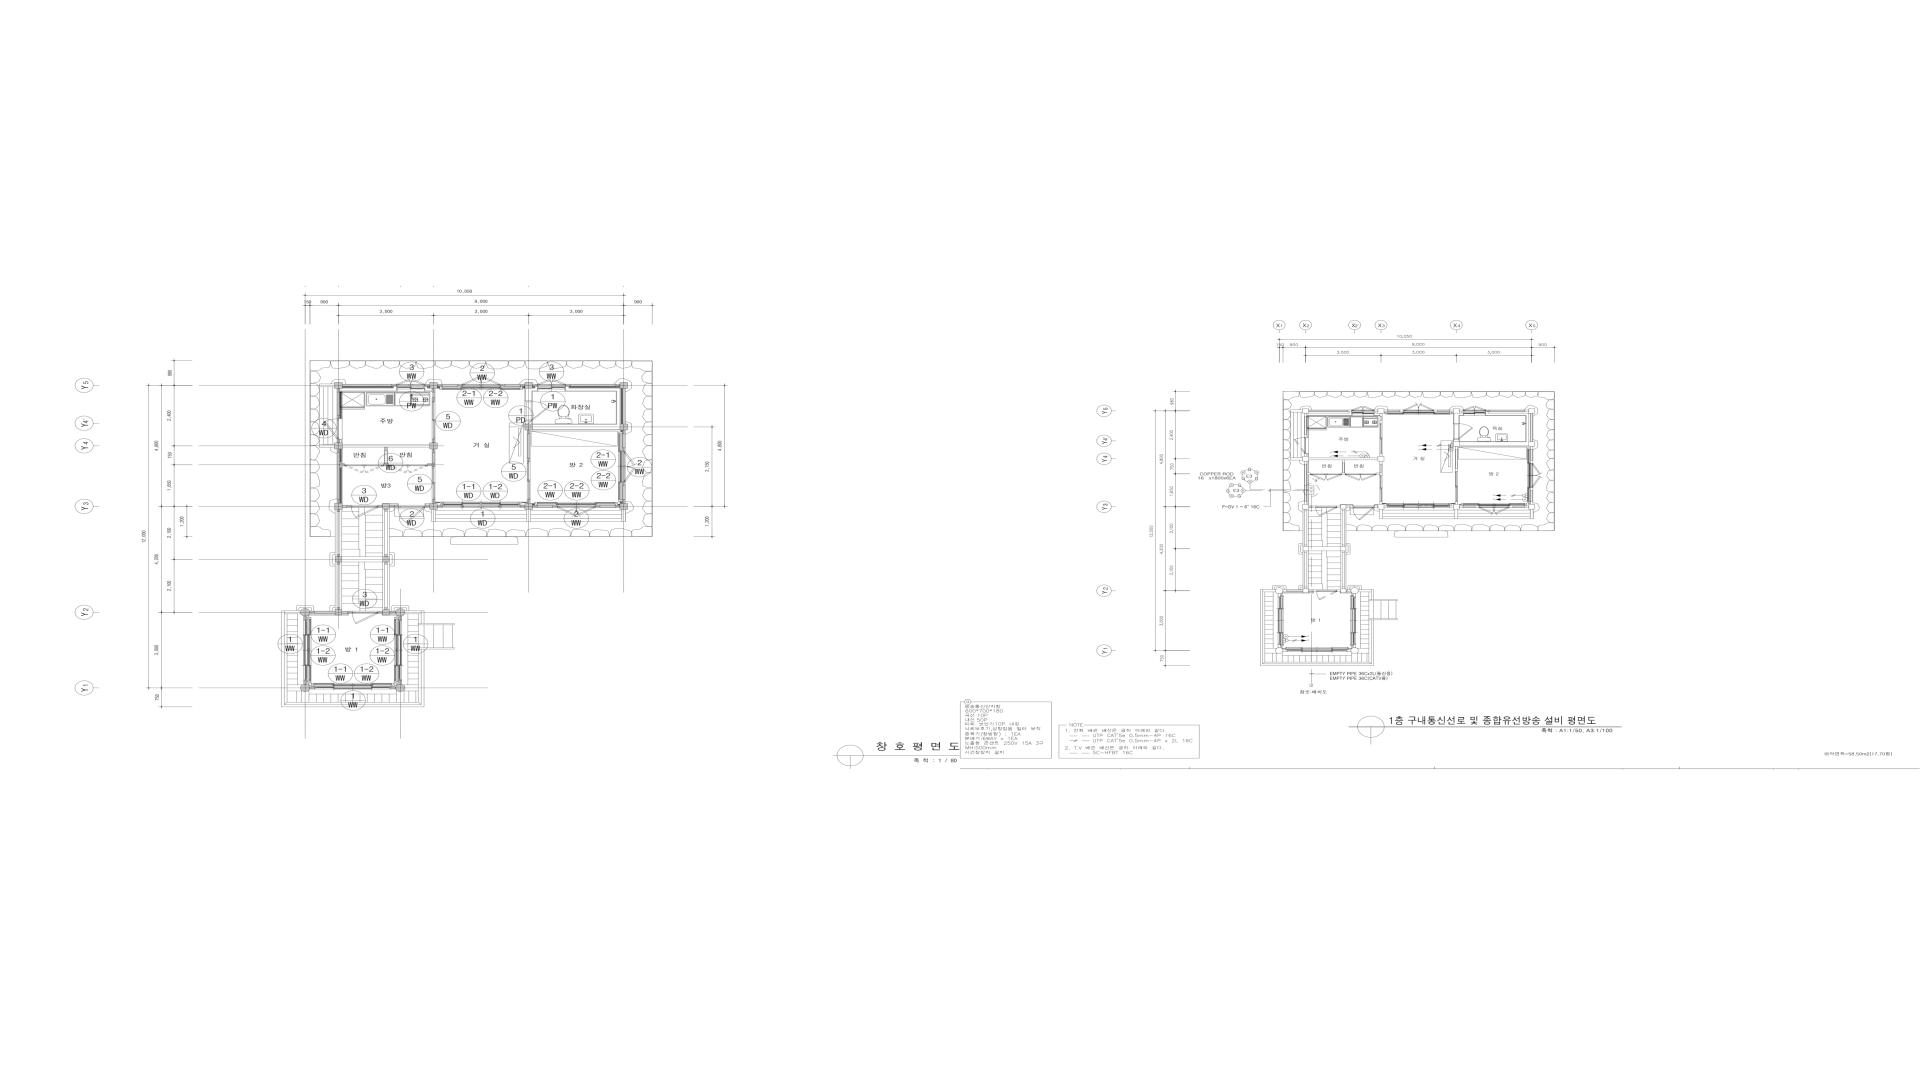door: (398, 505, 425, 523), (525, 401, 549, 421), (324, 419, 342, 439), (351, 505, 378, 518), (1386, 503, 1452, 508), (353, 611, 378, 624), (1453, 423, 1473, 439), (1294, 437, 1309, 454), (1345, 474, 1376, 481), (1311, 474, 1341, 481), (1316, 506, 1337, 516), (1317, 590, 1337, 600), (527, 462, 530, 500), (432, 401, 435, 439), (432, 467, 435, 500), (1455, 471, 1458, 502), (1380, 423, 1382, 454), (1380, 475, 1382, 502)
wall: (533, 425, 620, 430), (1460, 441, 1529, 447), (335, 562, 342, 610), (383, 509, 390, 557), (335, 510, 342, 557), (383, 562, 389, 610), (340, 386, 396, 391), (1302, 509, 1309, 547), (1303, 551, 1309, 589), (566, 387, 621, 391), (1341, 551, 1346, 589), (1341, 509, 1346, 547), (342, 445, 430, 447), (1486, 412, 1529, 416), (337, 453, 340, 500), (1526, 413, 1531, 441), (1309, 458, 1378, 460), (617, 391, 621, 425), (571, 384, 615, 387), (1304, 461, 1307, 504), (1307, 413, 1349, 416), (1309, 410, 1351, 412), (1490, 410, 1529, 412), (1304, 414, 1307, 438), (1455, 447, 1458, 471), (623, 388, 625, 424), (525, 391, 532, 401), (300, 609, 310, 616), (395, 609, 405, 616), (337, 392, 340, 415), (396, 685, 405, 692), (301, 685, 310, 692), (315, 611, 335, 614), (430, 503, 438, 510), (1531, 413, 1533, 441), (430, 382, 438, 389), (620, 382, 628, 389), (620, 503, 628, 510), (525, 503, 533, 510), (342, 385, 392, 386), (335, 503, 342, 510), (1453, 416, 1460, 423), (525, 387, 537, 391), (341, 408, 365, 410), (391, 681, 399, 687), (307, 681, 315, 687), (1351, 588, 1359, 594), (1351, 648, 1359, 654), (1275, 648, 1283, 654), (1275, 588, 1283, 594), (525, 382, 533, 388), (620, 424, 628, 430), (537, 505, 553, 508), (528, 434, 530, 458), (600, 505, 615, 508), (335, 443, 342, 449), (335, 382, 342, 388), (1302, 408, 1309, 414), (1453, 441, 1460, 447), (1453, 408, 1460, 414), (525, 424, 532, 430), (430, 443, 437, 449), (1283, 590, 1303, 592), (1509, 506, 1529, 508), (1384, 410, 1404, 412), (385, 451, 388, 464), (1342, 460, 1345, 473), (1460, 506, 1479, 508), (1434, 410, 1453, 412), (1378, 408, 1384, 414), (1378, 504, 1384, 510), (1529, 441, 1535, 447), (623, 430, 625, 448), (335, 557, 342, 562), (383, 504, 390, 509), (335, 610, 342, 615), (425, 386, 432, 391), (1302, 504, 1309, 509), (1453, 504, 1460, 509), (1531, 447, 1533, 463), (442, 384, 458, 386), (383, 557, 389, 562), (383, 610, 389, 615), (1303, 456, 1309, 461), (1378, 456, 1384, 461), (1529, 504, 1535, 509), (505, 384, 520, 386), (432, 453, 435, 463), (1531, 488, 1533, 502), (1380, 461, 1382, 475), (623, 486, 625, 500), (1453, 413, 1462, 416), (309, 614, 335, 615), (390, 505, 398, 508), (342, 611, 348, 615), (1374, 412, 1380, 416), (1303, 589, 1309, 593), (1340, 505, 1346, 509), (1529, 409, 1535, 413), (435, 502, 442, 505), (520, 502, 527, 505), (525, 421, 532, 424), (1341, 589, 1346, 593), (1303, 547, 1308, 551), (1341, 547, 1346, 551), (309, 611, 315, 614), (1308, 590, 1317, 592), (425, 505, 430, 508), (342, 505, 347, 508), (378, 505, 383, 508), (348, 611, 353, 614), (378, 611, 383, 614), (391, 611, 396, 614), (566, 384, 571, 387), (615, 384, 620, 387), (615, 505, 620, 508), (595, 505, 600, 508), (520, 505, 525, 508), (432, 392, 435, 397), (1309, 506, 1316, 508), (1346, 506, 1353, 508), (1453, 439, 1460, 441), (438, 505, 442, 508), (337, 388, 340, 392), (337, 415, 340, 419), (337, 439, 340, 443), (337, 449, 340, 453), (347, 505, 351, 508), (385, 447, 388, 451), (304, 616, 307, 620), (399, 616, 402, 620), (399, 681, 402, 685), (304, 681, 307, 685), (1382, 503, 1386, 506), (533, 384, 537, 387), (553, 505, 557, 508), (533, 505, 537, 508), (527, 430, 530, 434), (527, 458, 530, 462), (432, 388, 435, 392), (432, 397, 435, 401), (432, 439, 435, 443), (432, 449, 435, 453), (432, 463, 435, 467), (397, 615, 399, 620), (391, 687, 396, 689), (310, 687, 315, 689), (425, 384, 430, 386), (500, 384, 505, 386), (520, 384, 525, 386), (432, 500, 435, 503), (337, 500, 340, 503), (389, 504, 398, 505), (1353, 594, 1356, 597), (1353, 645, 1356, 648), (1278, 645, 1281, 648), (1278, 594, 1281, 597), (1452, 503, 1455, 506), (527, 500, 530, 503), (340, 439, 342, 443), (389, 614, 397, 615), (392, 384, 396, 386), (1347, 650, 1351, 652), (1283, 650, 1287, 652), (1337, 590, 1341, 592), (1337, 506, 1341, 508), (1374, 506, 1378, 508), (1486, 410, 1490, 412), (1461, 412, 1463, 416), (1374, 410, 1378, 412), (1307, 473, 1311, 475), (1341, 473, 1345, 475), (1376, 473, 1380, 475), (1380, 413, 1382, 417), (1349, 412, 1351, 416), (438, 384, 442, 386), (458, 384, 462, 386), (623, 448, 625, 452), (623, 482, 625, 486), (389, 611, 391, 614), (1346, 592, 1352, 593), (1460, 410, 1463, 412), (1304, 454, 1307, 456), (1455, 502, 1458, 504), (1380, 420, 1382, 423), (1380, 417, 1382, 420), (623, 500, 625, 503), (425, 504, 430, 505), (307, 615, 308, 620), (1531, 502, 1533, 504), (1380, 502, 1382, 504), (1380, 454, 1382, 456), (1460, 504, 1461, 506), (1452, 412, 1453, 414), (1384, 412, 1386, 413)
window: (442, 502, 520, 508), (557, 505, 595, 516), (623, 452, 636, 482), (618, 432, 623, 502), (462, 377, 500, 386), (440, 386, 523, 390), (311, 683, 394, 687), (1285, 647, 1349, 652), (1350, 596, 1356, 646), (1278, 596, 1284, 646), (1353, 506, 1374, 520), (394, 617, 398, 683), (307, 617, 311, 683), (535, 502, 618, 505), (398, 620, 402, 681), (1532, 463, 1541, 488), (1527, 448, 1531, 503), (1403, 404, 1434, 411), (1479, 507, 1509, 514), (396, 379, 425, 386), (537, 379, 566, 386), (304, 620, 307, 681), (537, 385, 566, 391), (315, 687, 391, 689), (1461, 504, 1527, 506), (1386, 412, 1452, 414), (1463, 406, 1486, 411), (1351, 406, 1374, 411), (396, 386, 425, 389), (1463, 412, 1486, 414), (1351, 412, 1374, 414)
